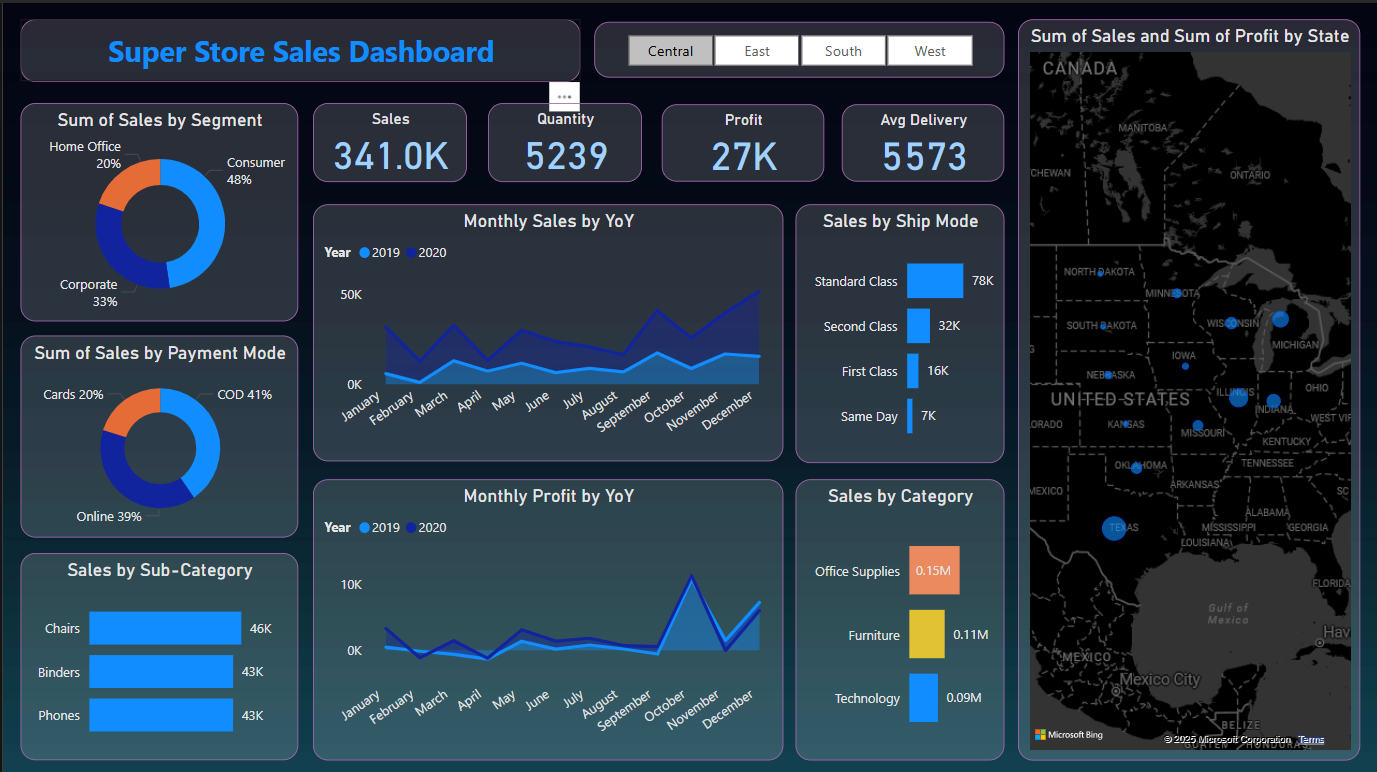

Layout of this report page (visuals, bound fields, positions):
{"tool":"powerbi","page":{"name":"Page 1","canvas":[1280,720],"ordinal":0},"visuals":[{"type":"clusteredBarChart","title":" Sales by Category","fields":{"Category":["SuperStore_Sales_Dataset.Category"],"Y":["Sum(SuperStore_Sales_Dataset.Sales)"]},"box":[737.2,443,194.2,261.6],"z":0},{"type":"clusteredBarChart","title":" Sales by Sub-Category","fields":{"Y":["Sum(SuperStore_Sales_Dataset.Sales)"],"Category":["SuperStore_Sales_Dataset.Sub-Category"]},"box":[16.3,511.6,258.1,193],"z":1000},{"type":"clusteredBarChart","title":" Sales by Ship Mode","fields":{"Y":["Sum(SuperStore_Sales_Dataset.Sales)"],"Category":["SuperStore_Sales_Dataset.Ship Mode"]},"box":[737.2,187.2,194.2,240.7],"z":2000},{"type":"stackedAreaChart","title":"Monthly Sales by YoY","fields":{"Y":["Sum(SuperStore_Sales_Dataset.Sales)"],"Category":["SuperStore_Sales_Dataset.Order Date.Variation.Date Hierarchy.Month","SuperStore_Sales_Dataset.Order Date.Variation.Date Hierarchy.Day"],"Series":["SuperStore_Sales_Dataset.Order Date.Variation.Date Hierarchy.Year"]},"box":[288.4,187.2,437.2,239.5],"z":3000},{"type":"stackedAreaChart","title":"Monthly Profit by YoY","fields":{"Category":["SuperStore_Sales_Dataset.Order Date.Variation.Date Hierarchy.Month","SuperStore_Sales_Dataset.Order Date.Variation.Date Hierarchy.Day"],"Series":["SuperStore_Sales_Dataset.Order Date.Variation.Date Hierarchy.Year"],"Y":["Sum(SuperStore_Sales_Dataset.Profit)"]},"box":[288.4,443,437.2,261.6],"z":4000},{"type":"map","fields":{"Category":["SuperStore_Sales_Dataset.State"],"Size":["Sum(SuperStore_Sales_Dataset.Sales)"]},"box":[944.2,15.1,318.6,689.5],"z":5000},{"type":"donutChart","fields":{"Category":["SuperStore_Sales_Dataset.Segment"],"Y":["Sum(SuperStore_Sales_Dataset.Sales)"]},"box":[16.3,93,258.1,203.5],"z":6000},{"type":"donutChart","fields":{"Y":["Sum(SuperStore_Sales_Dataset.Sales)"],"Category":["SuperStore_Sales_Dataset.Payment Mode"]},"box":[16.3,309.3,258.1,188.4],"z":7000},{"type":"slicer","fields":{"Values":["SuperStore_Sales_Dataset.Region"]},"box":[550,17.4,381.4,52.3],"z":8000},{"type":"textbox","box":[16.3,15.1,520.9,58.1],"z":9000},{"type":"card","title":"Sales","fields":{"Values":["Sum(SuperStore_Sales_Dataset.Sales)"]},"box":[288.4,93,143,73.3],"z":10000},{"type":"card","title":"Quantity","fields":{"Values":["Sum(SuperStore_Sales_Dataset.Quantity)"]},"box":[451.2,93,143,73.3],"z":11000},{"type":"card","title":"Profit","fields":{"Values":["Sum(SuperStore_Sales_Dataset.Profit)"]},"box":[612.8,94.2,151.2,72.1],"z":12000},{"type":"card","title":"Avg Delivery","fields":{"Values":["Sum(SuperStore_Sales_Dataset.AvgDelivery)"]},"box":[780.2,94.2,151.2,72.1],"z":13000}]}

Visuals, with their boxes in screenshot pixels (x1, y1, x2, y2), scaled from the page's 1280x720 canvas onto the 1377x772 screenshot:
" Sales by Category" clusteredBarChart: detection(793, 475, 1002, 755)
" Sales by Sub-Category" clusteredBarChart: detection(18, 549, 295, 755)
" Sales by Ship Mode" clusteredBarChart: detection(793, 201, 1002, 459)
"Monthly Sales by YoY" stackedAreaChart: detection(310, 201, 781, 458)
"Monthly Profit by YoY" stackedAreaChart: detection(310, 475, 781, 755)
map - SuperStore_Sales_Dataset.State x Sum(SuperStore_Sales_Dataset.Sales): detection(1016, 16, 1358, 755)
donutChart - SuperStore_Sales_Dataset.Segment x Sum(SuperStore_Sales_Dataset.Sales): detection(18, 100, 295, 318)
donutChart - Sum(SuperStore_Sales_Dataset.Sales) x SuperStore_Sales_Dataset.Payment Mode: detection(18, 332, 295, 534)
slicer - SuperStore_Sales_Dataset.Region: detection(592, 19, 1002, 75)
textbox: detection(18, 16, 578, 78)
"Sales" card: detection(310, 100, 464, 178)
"Quantity" card: detection(485, 100, 639, 178)
"Profit" card: detection(659, 101, 822, 178)
"Avg Delivery" card: detection(839, 101, 1002, 178)
